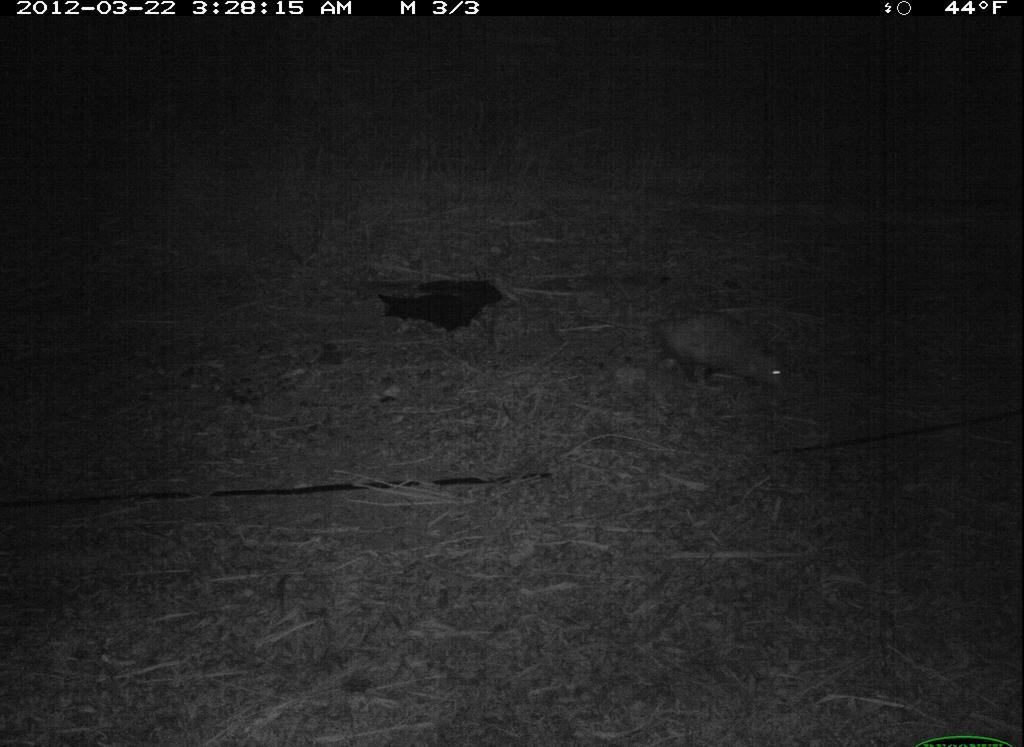opossum: (574, 303, 804, 402)
